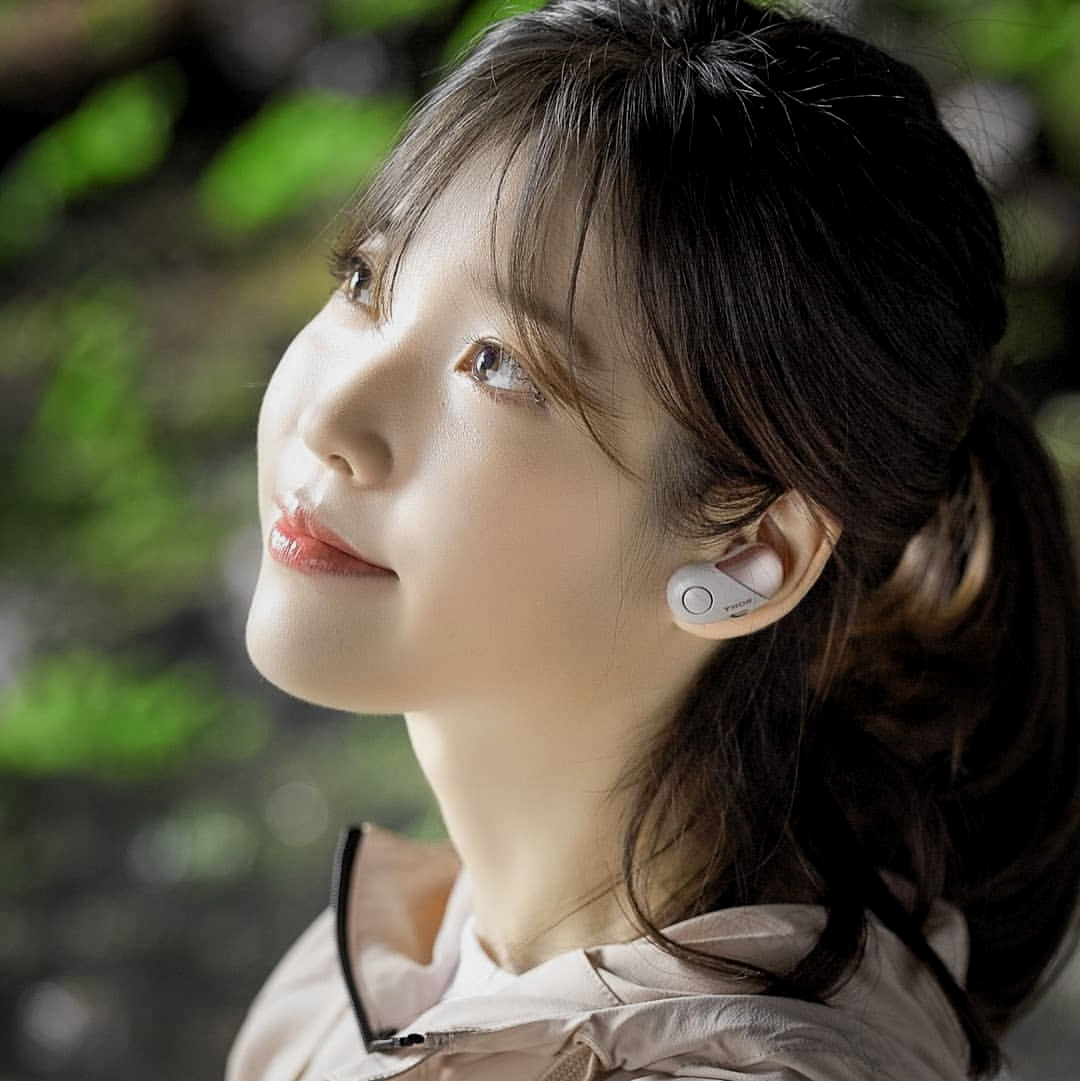earphone: (665, 486, 841, 639)
